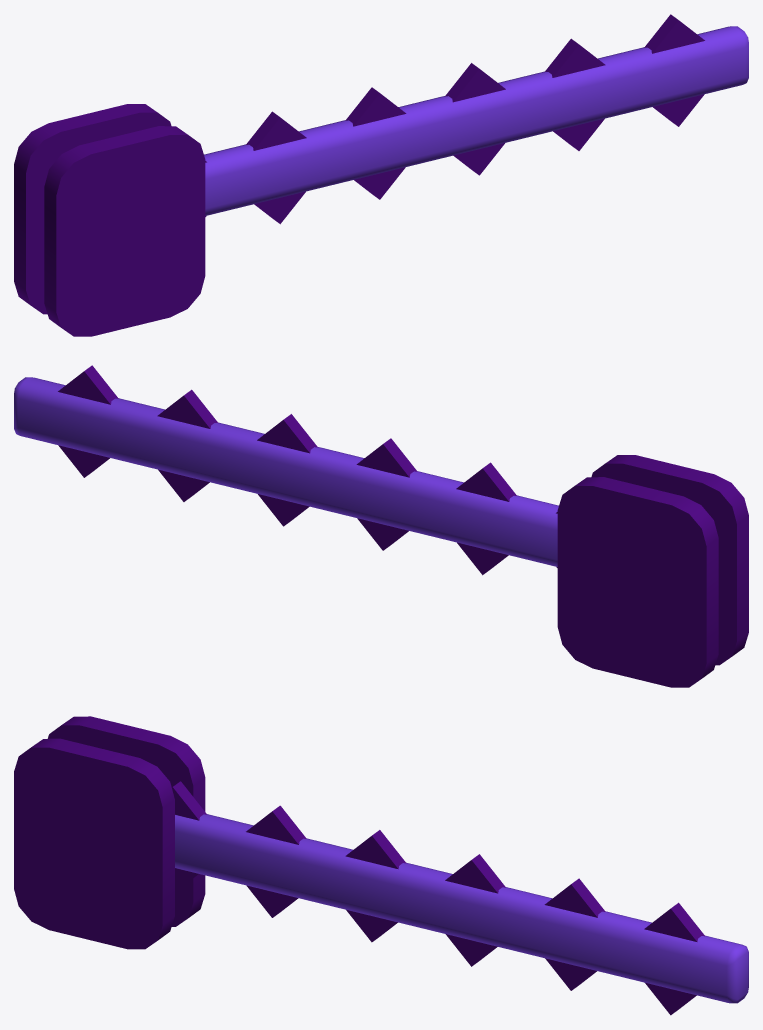
The model's file is gate_violet.fbx.
The picture shows the model from 3 angles, top to bottom: view 1: azimuth 30°, elevation 25°; view 2: azimuth 150°, elevation 25°; view 3: azimuth 330°, elevation 25°; orthographic projection.
Visible parts, largest first — view 1: gate_violet_serve, gate_violet_main; view 2: gate_violet_serve, gate_violet_main; view 3: gate_violet_serve, gate_violet_main.
Boxes of the visible parts, x1,y1,x2,y2 form: gate_violet_serve: (204, 14, 748, 224); gate_violet_main: (14, 104, 205, 336); gate_violet_serve: (14, 365, 558, 575); gate_violet_main: (557, 455, 748, 687); gate_violet_serve: (172, 781, 748, 1015); gate_violet_main: (14, 716, 205, 949).
Size of the model in its own units: 0.8241 by 0.203 by 0.0856.
